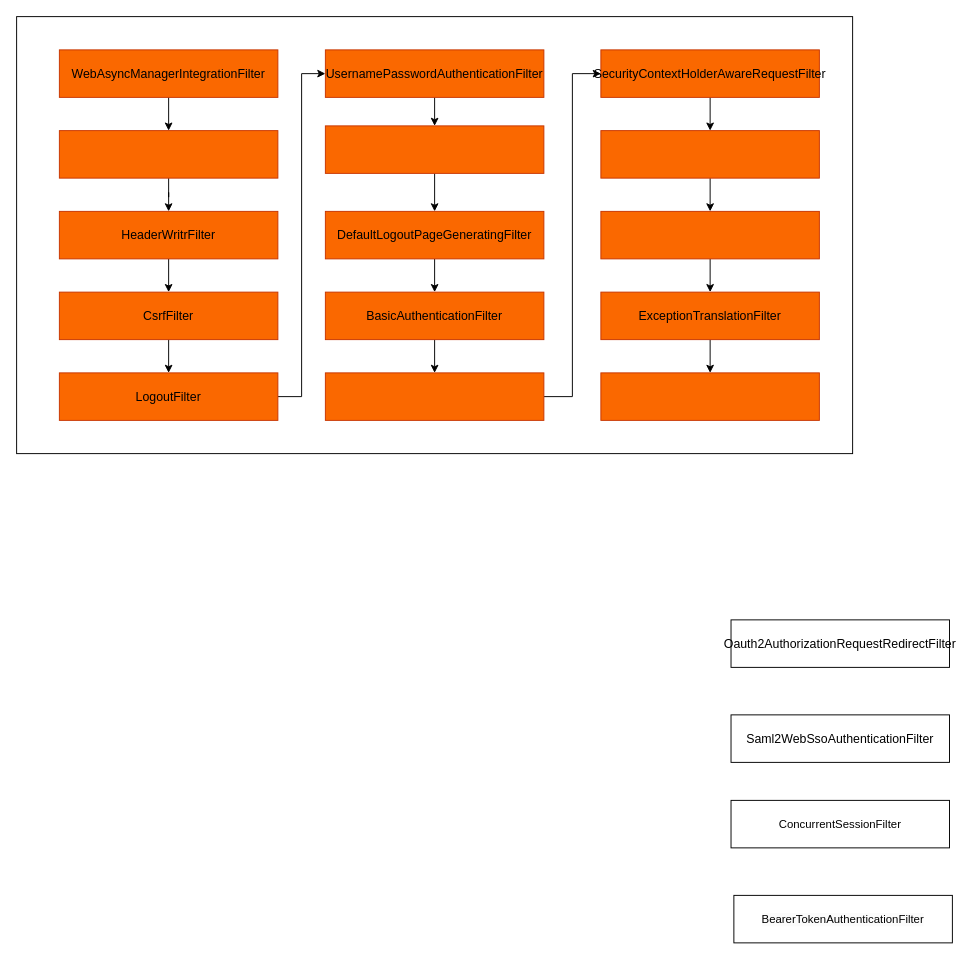
The diagram is 973 pixels wide and 960 high, and some of its shapes have lost their labels. The box of each missing label's shape, as (x1, y1, x2, y2) in pixels:
AnonymousAuthenticationFilter: (600, 130, 819, 178)
DefaultLoginPageGeneratingFilter: (324, 125, 544, 173)
FilterSecurityInterceptor: (600, 372, 819, 420)
RequestCacheAwareFilter: (324, 372, 544, 420)
SecurityContextPersistenceFilter: (58, 130, 278, 178)
SessionManagementFilter: (600, 210, 819, 259)
